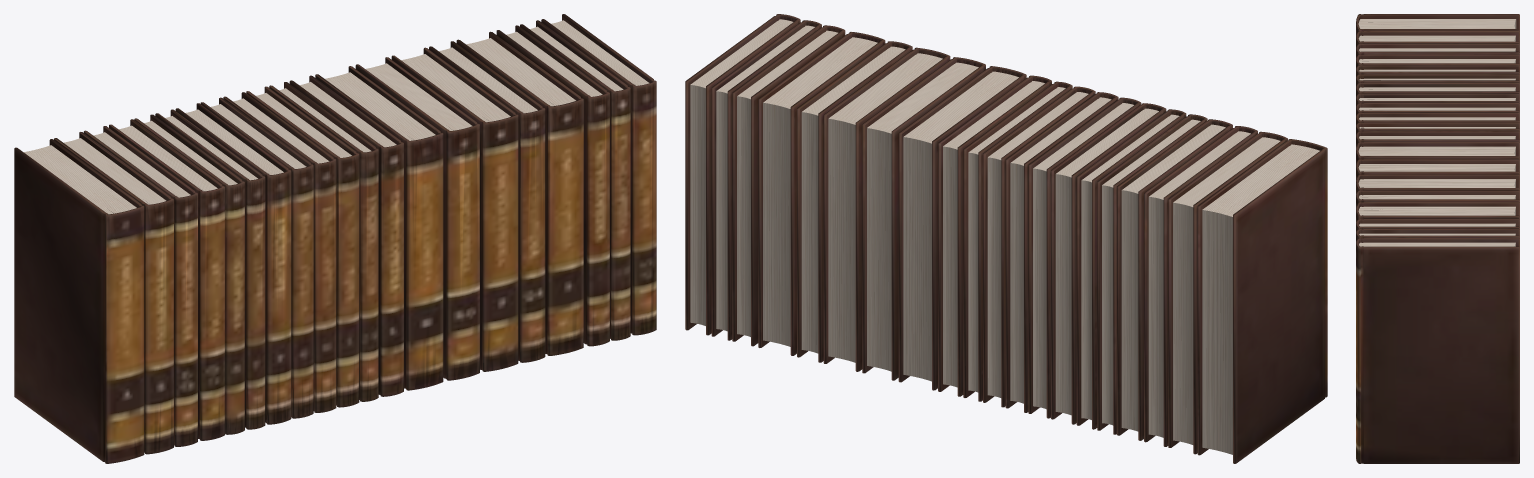
File: book_encyclopedia_set_01.glb
3 renders of one model, left to right at view 1: azimuth 30°, elevation 25°; view 2: azimuth 150°, elevation 25°; view 3: azimuth 270°, elevation 25°, orthographic. The views are drawn at different scales.
Visible parts, largest first — view 1: book_encyclopedia_set_01_book01, book_encyclopedia_set_01_book13, book_encyclopedia_set_01_book15, book_encyclopedia_set_01_book17, book_encyclopedia_set_01_book14, book_encyclopedia_set_01_book02, book_encyclopedia_set_01_book16, book_encyclopedia_set_01_book04, book_encyclopedia_set_01_book18, book_encyclopedia_set_01_book20, book_encyclopedia_set_01_book07, book_encyclopedia_set_01_book12 (+8 smaller); view 2: book_encyclopedia_set_01_book01, book_encyclopedia_set_01_book13, book_encyclopedia_set_01_book15, book_encyclopedia_set_01_book17, book_encyclopedia_set_01_book14, book_encyclopedia_set_01_book02, book_encyclopedia_set_01_book04, book_encyclopedia_set_01_book16, book_encyclopedia_set_01_book20, book_encyclopedia_set_01_book18, book_encyclopedia_set_01_book07, book_encyclopedia_set_01_book12 (+8 smaller); view 3: book_encyclopedia_set_01_book20, book_encyclopedia_set_01_book13, book_encyclopedia_set_01_book01, book_encyclopedia_set_01_book17, book_encyclopedia_set_01_book15, book_encyclopedia_set_01_book14, book_encyclopedia_set_01_book02, book_encyclopedia_set_01_book16, book_encyclopedia_set_01_book03, book_encyclopedia_set_01_book12, book_encyclopedia_set_01_book04, book_encyclopedia_set_01_book07 (+8 smaller).
Boxes of the visible parts, x1,y1,x2,y2 form: book_encyclopedia_set_01_book01: (14, 139, 144, 463); book_encyclopedia_set_01_book13: (315, 66, 443, 390); book_encyclopedia_set_01_book15: (391, 47, 518, 371); book_encyclopedia_set_01_book17: (456, 31, 583, 355); book_encyclopedia_set_01_book14: (355, 57, 479, 380); book_encyclopedia_set_01_book02: (54, 132, 173, 454); book_encyclopedia_set_01_book16: (429, 41, 545, 362); book_encyclopedia_set_01_book04: (109, 119, 224, 440); book_encyclopedia_set_01_book18: (496, 25, 609, 346); book_encyclopedia_set_01_book20: (541, 14, 656, 335); book_encyclopedia_set_01_book07: (175, 103, 291, 424); book_encyclopedia_set_01_book12: (289, 75, 403, 396); book_encyclopedia_set_01_book01: (1197, 139, 1327, 463); book_encyclopedia_set_01_book13: (898, 66, 1026, 390); book_encyclopedia_set_01_book15: (823, 47, 950, 371); book_encyclopedia_set_01_book17: (758, 32, 885, 355); book_encyclopedia_set_01_book14: (862, 57, 985, 380); book_encyclopedia_set_01_book02: (1168, 131, 1287, 454); book_encyclopedia_set_01_book04: (1117, 119, 1232, 440); book_encyclopedia_set_01_book16: (797, 41, 912, 362); book_encyclopedia_set_01_book20: (685, 14, 800, 335); book_encyclopedia_set_01_book18: (732, 25, 845, 346); book_encyclopedia_set_01_book07: (1051, 103, 1166, 424); book_encyclopedia_set_01_book12: (938, 75, 1051, 396); book_encyclopedia_set_01_book20: (1356, 238, 1519, 463); book_encyclopedia_set_01_book13: (1356, 142, 1519, 165); book_encyclopedia_set_01_book01: (1356, 14, 1519, 35); book_encyclopedia_set_01_book17: (1356, 202, 1519, 221); book_encyclopedia_set_01_book15: (1356, 174, 1519, 194); book_encyclopedia_set_01_book14: (1356, 159, 1519, 180); book_encyclopedia_set_01_book02: (1356, 30, 1519, 47); book_encyclopedia_set_01_book16: (1356, 190, 1519, 222); book_encyclopedia_set_01_book03: (1356, 43, 1519, 58); book_encyclopedia_set_01_book12: (1356, 131, 1519, 149); book_encyclopedia_set_01_book04: (1356, 54, 1519, 69); book_encyclopedia_set_01_book07: (1356, 82, 1519, 96).
Size of the model in its own units: 0.5513 by 0.2374 by 0.1631.
2 materials, 2 textured.
